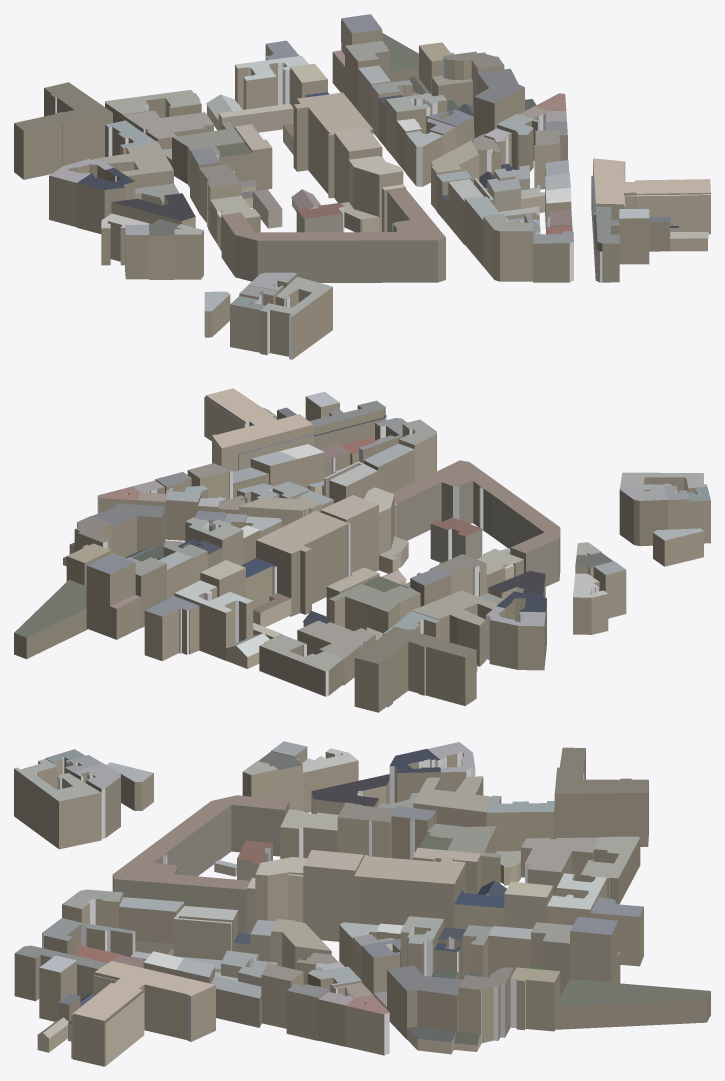
3 renders of one model, top to bottom at view 1: azimuth 30°, elevation 25°; view 2: azimuth 150°, elevation 25°; view 3: azimuth 270°, elevation 25°, orthographic. The views are drawn at different scales.
Visible parts, largest first — view 1: tuile; view 2: tuile; view 3: tuile.
Part boxes in pixels (bbox=[...]): tuile: bbox=[14, 14, 710, 359]; tuile: bbox=[14, 388, 710, 712]; tuile: bbox=[14, 741, 710, 1066].
Size of the model in its own units: 271 by 34.84 by 292.
